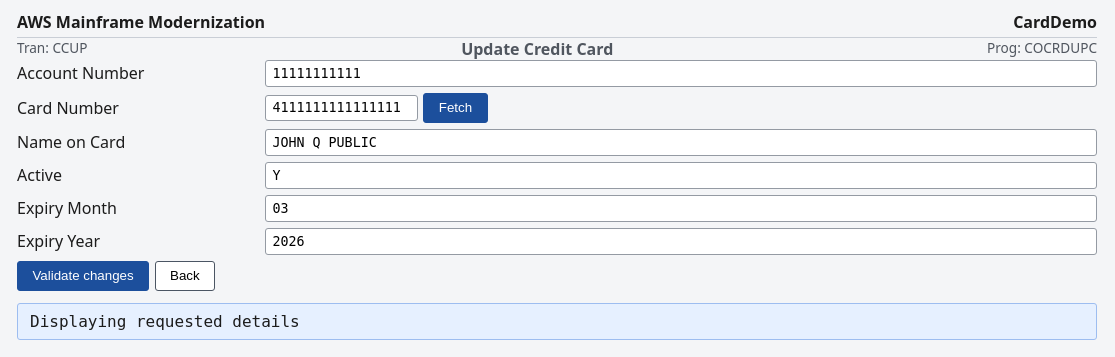
Card update screen › saves the confirmed changes and reports the commit
Replace the text in the field labelled "Name on Card" with "JANE Q PUBLIC" at (681, 142), box [265, 129, 1097, 156]
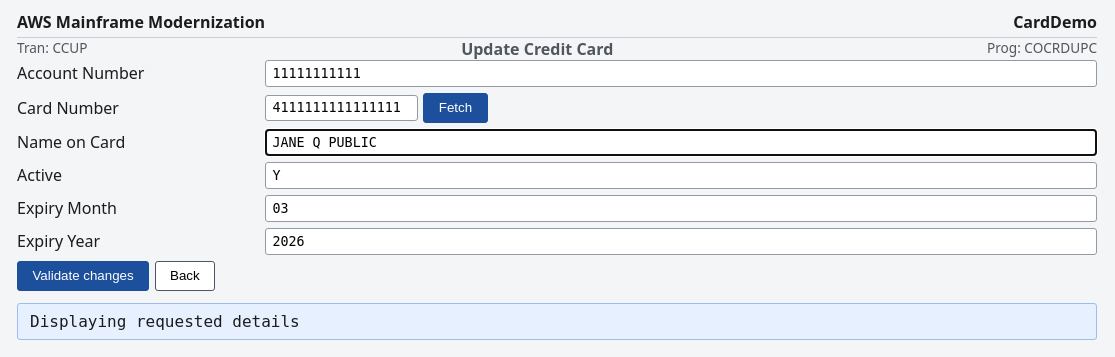
Click the button "Validate changes" at (83, 276), box [17, 261, 149, 291]
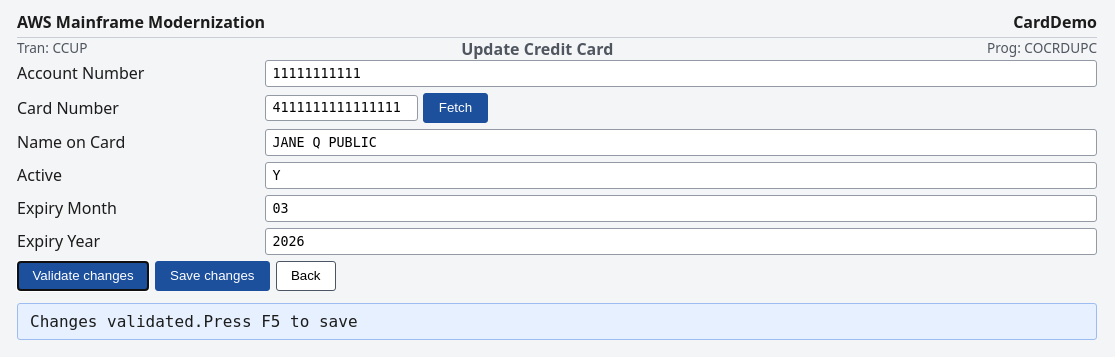
Click the button "Save changes" at (212, 276), box [155, 261, 270, 291]
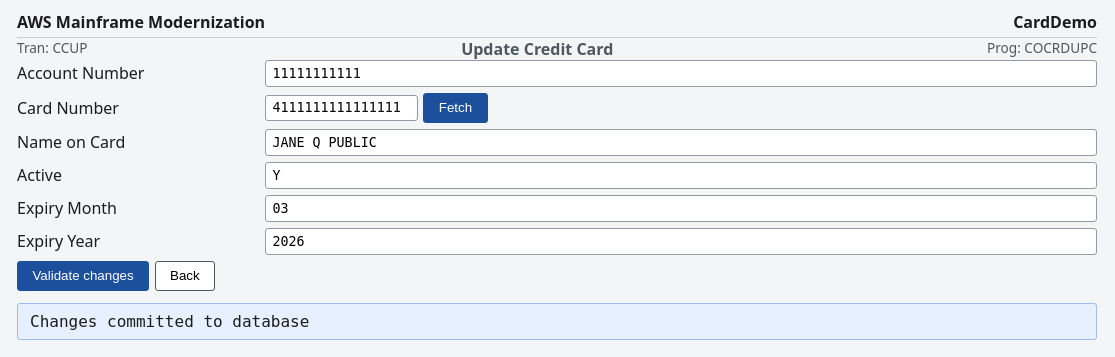
Expected: the message reads "Changes committed to database", [30, 312, 309, 331]
Expected: the button "Save changes" is gone
